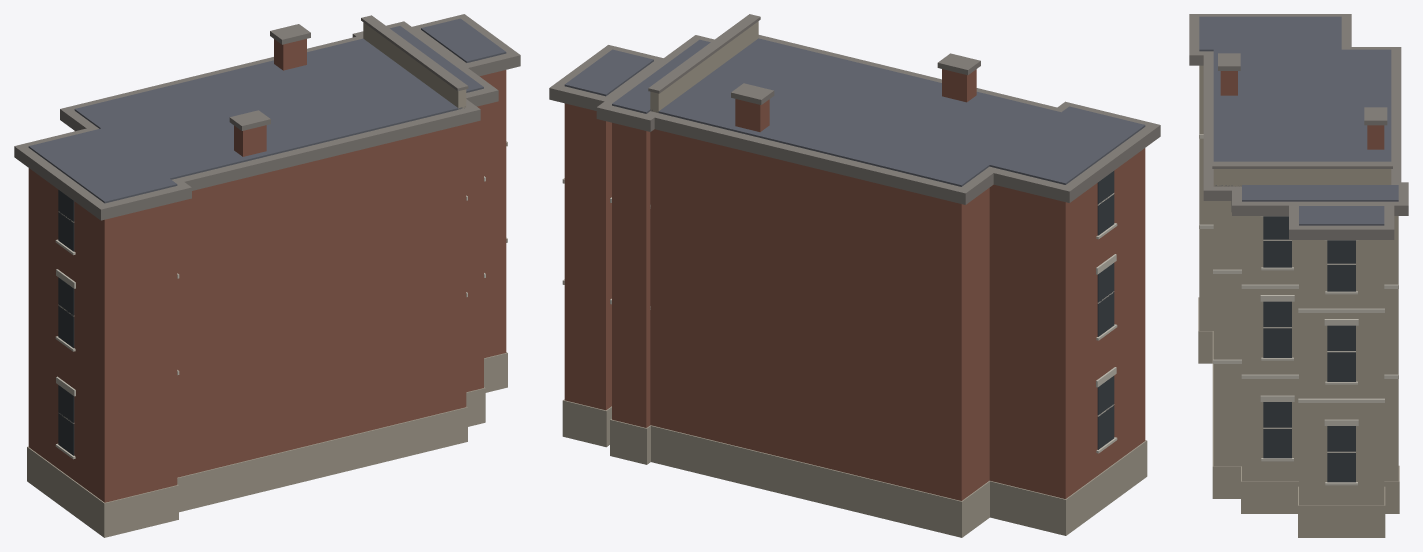
The model's file is otis_house_2033_prairie__draft_1904.glb.
The picture shows the model from 3 angles, left to right: view 1: azimuth 30°, elevation 25°; view 2: azimuth 150°, elevation 25°; view 3: azimuth 270°, elevation 25°; orthographic projection. The views are drawn at different scales.
Visible parts, largest first — view 1: otis_house_2033_prairie__draft_1904; view 2: otis_house_2033_prairie__draft_1904; view 3: otis_house_2033_prairie__draft_1904.
Part boxes in pixels (x1,y1,x2,y2): otis_house_2033_prairie__draft_1904: [14, 14, 520, 537]; otis_house_2033_prairie__draft_1904: [549, 14, 1160, 537]; otis_house_2033_prairie__draft_1904: [1189, 14, 1408, 537].
Bounding box in the file's own units: 17.95 × 13.34 × 7.7.
